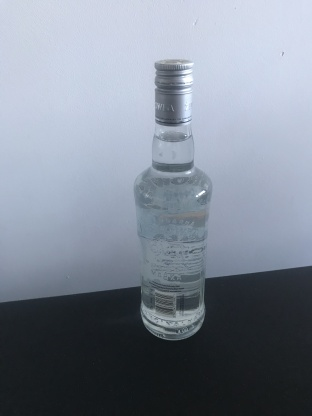nakretka: (152, 57, 196, 128)
